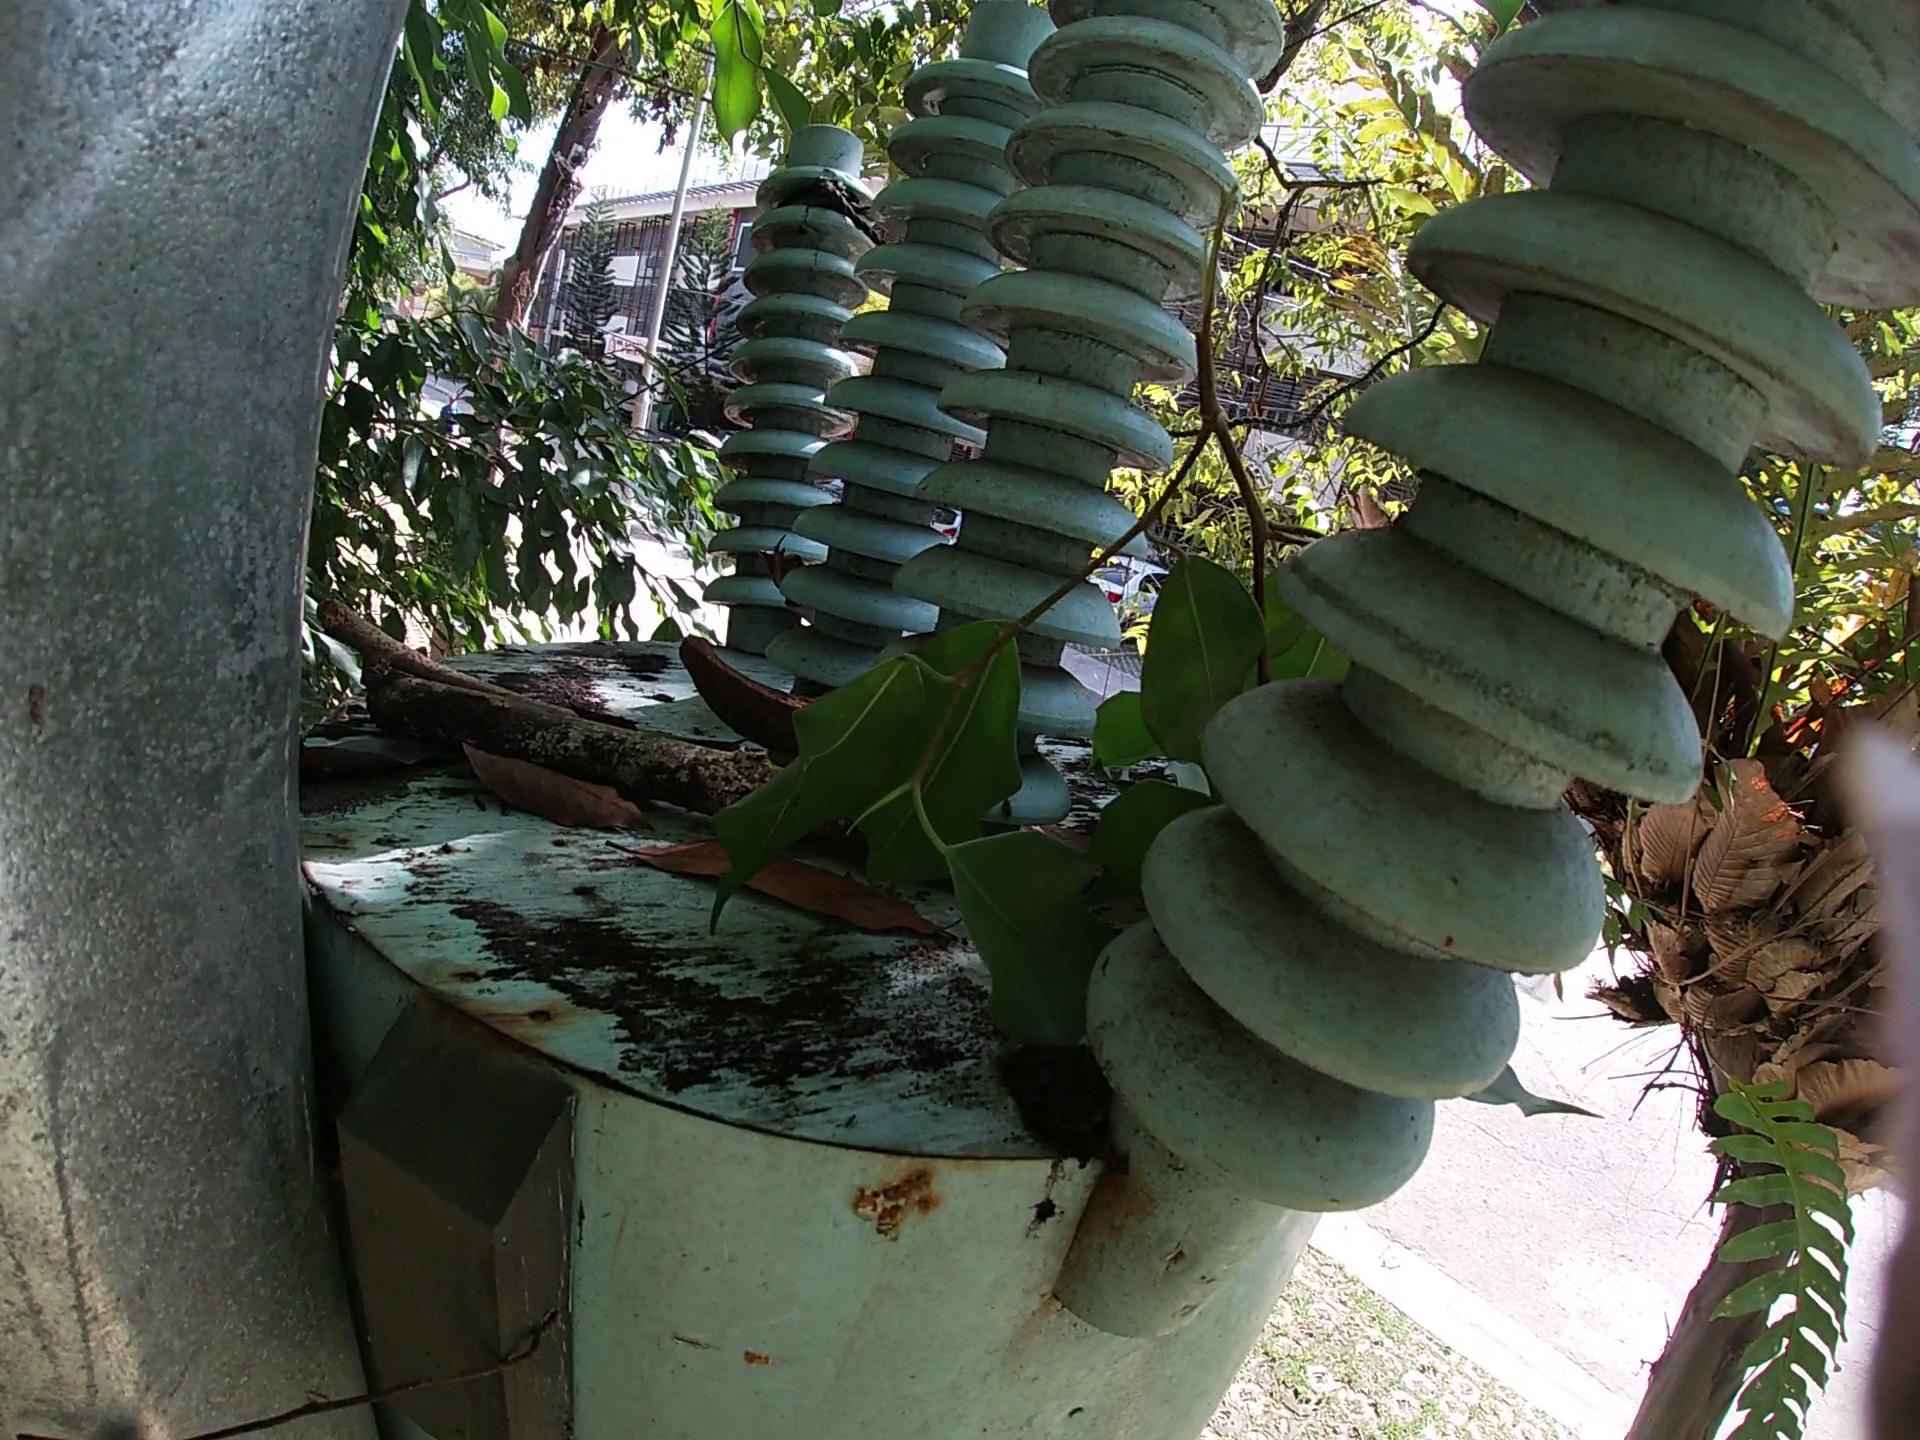branch with leaves: (726, 144, 1376, 1201)
leaf: (643, 836, 955, 954), (451, 735, 670, 833), (242, 740, 414, 821), (1448, 1078, 1613, 1150)
mahogany fruit: (674, 643, 800, 746)
tree branch: (352, 663, 760, 790), (296, 588, 508, 687)
